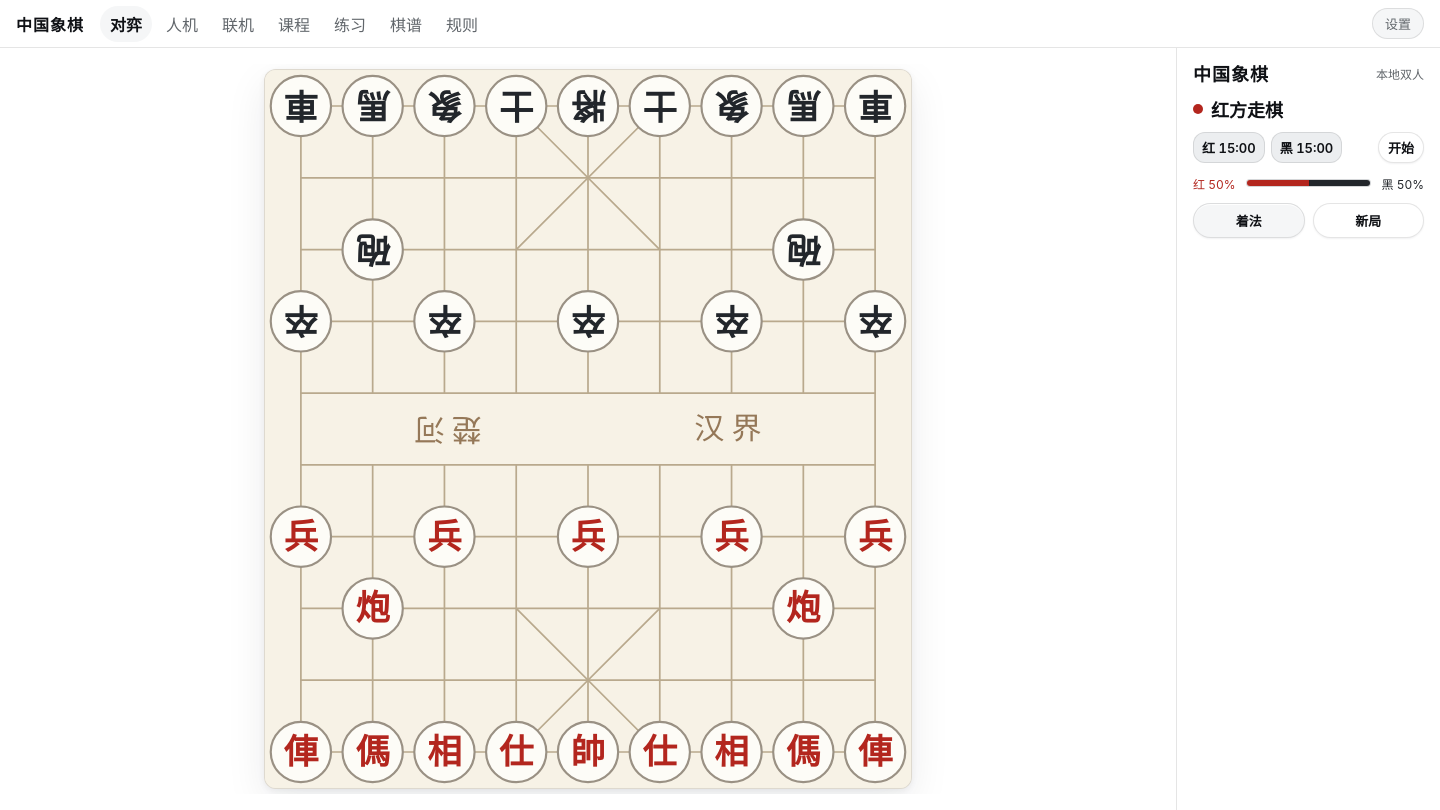
F4-1 切页不丢对局状态 › 走一着后去课程再回对弈，棋盘与记谱不变
Later steps or results of the test are not shown.
Press the mouse on the icon with class "board": (588, 429) left=264, top=69, right=912, bottom=789
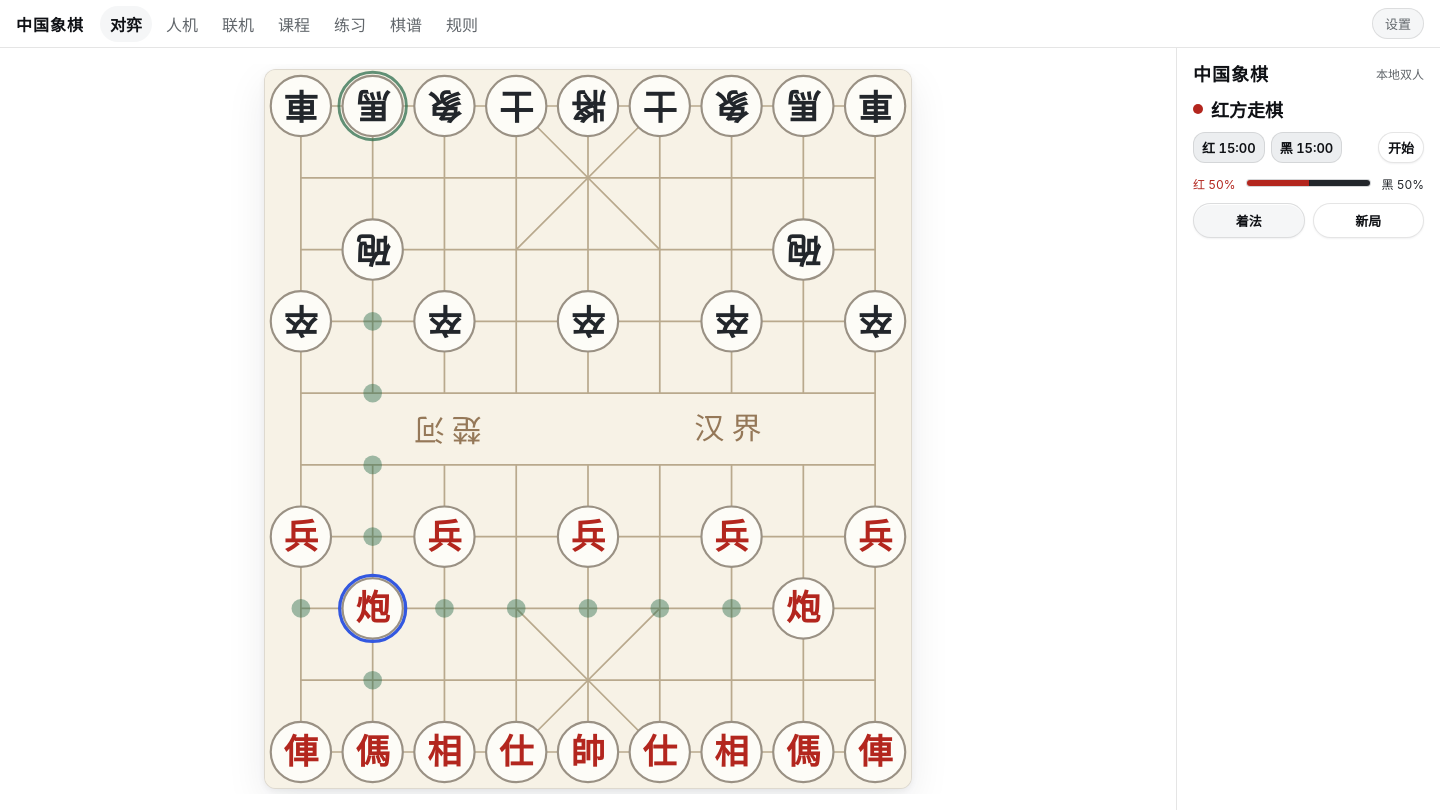
Press the mouse on the icon with class "board": (588, 429) left=264, top=69, right=912, bottom=789
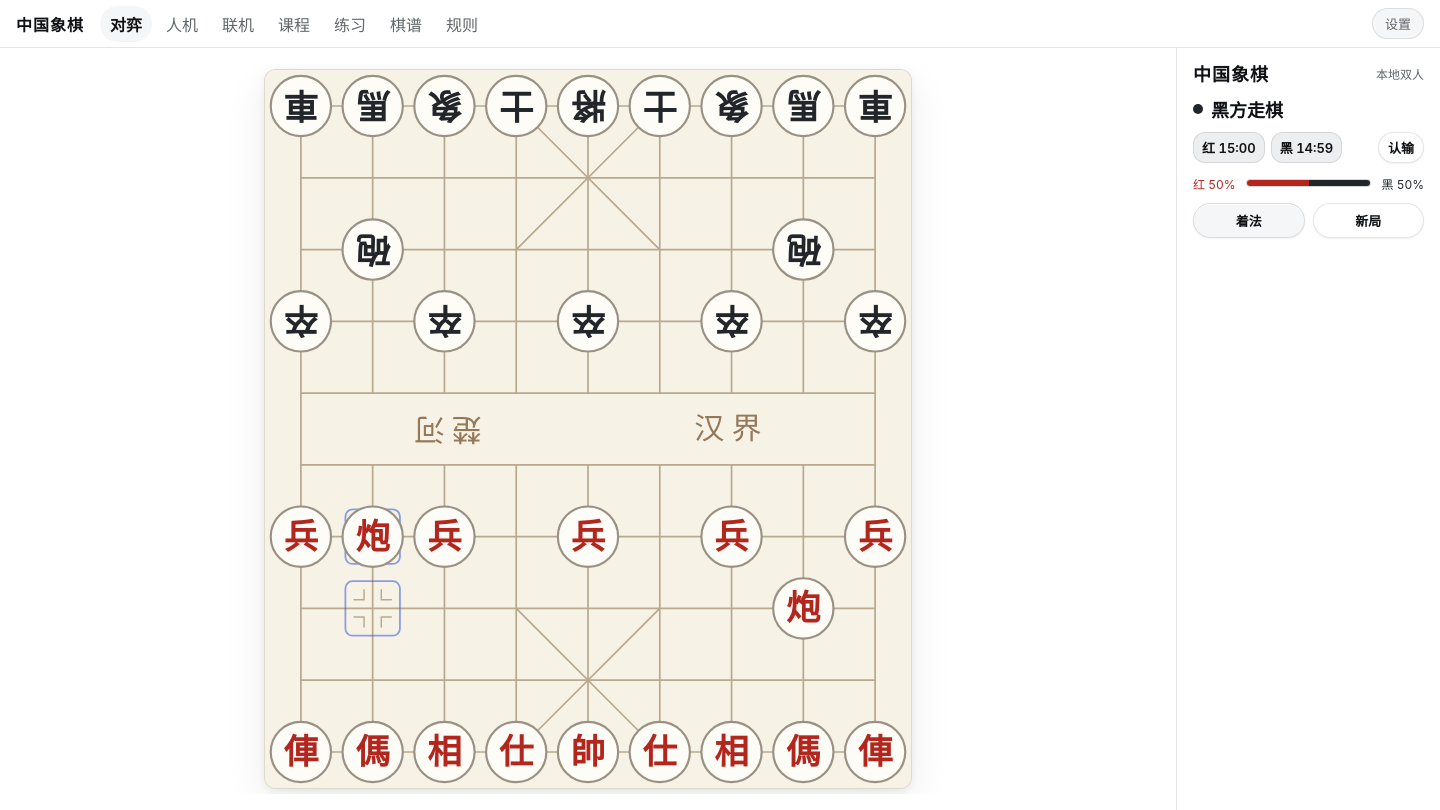
Now the message reads "黑方走棋", box left=1211, top=100, right=1283, bottom=121
